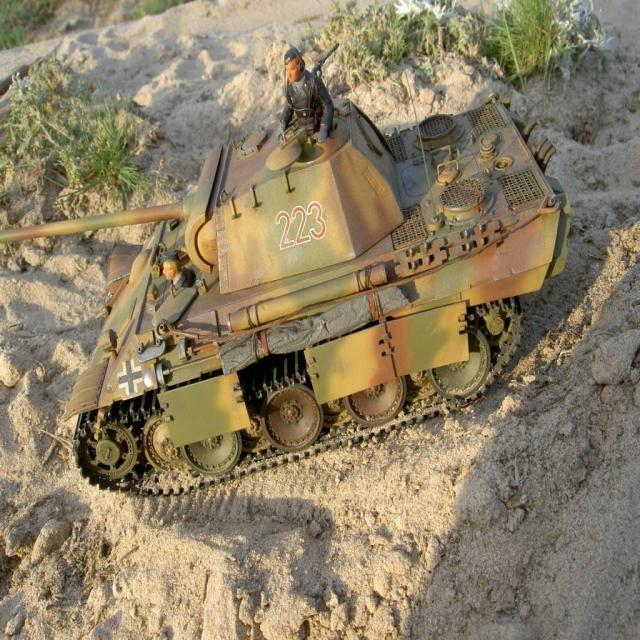Tanks: (66, 122, 584, 486)
